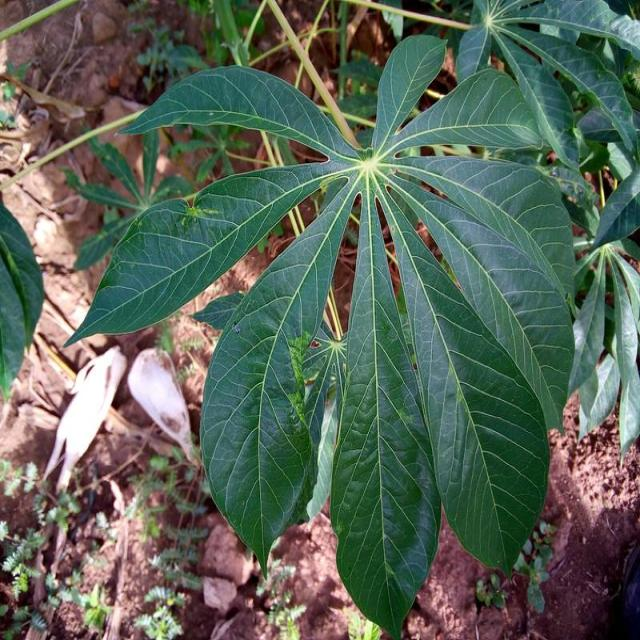Mosaico: (288, 292, 356, 456), (162, 179, 233, 248)
